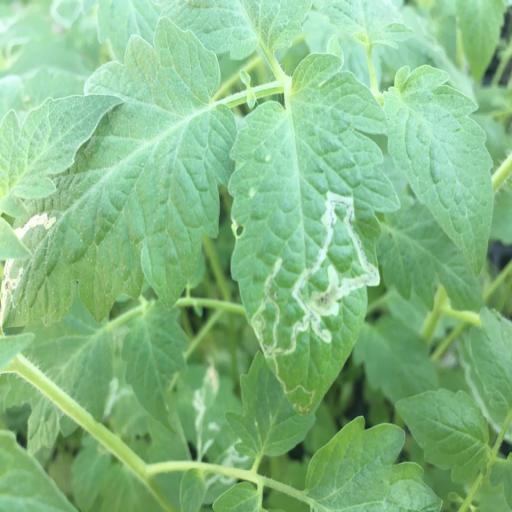Healthy: (382, 62, 496, 276), (395, 390, 490, 486)
Leaf Miner: (224, 52, 400, 412)
